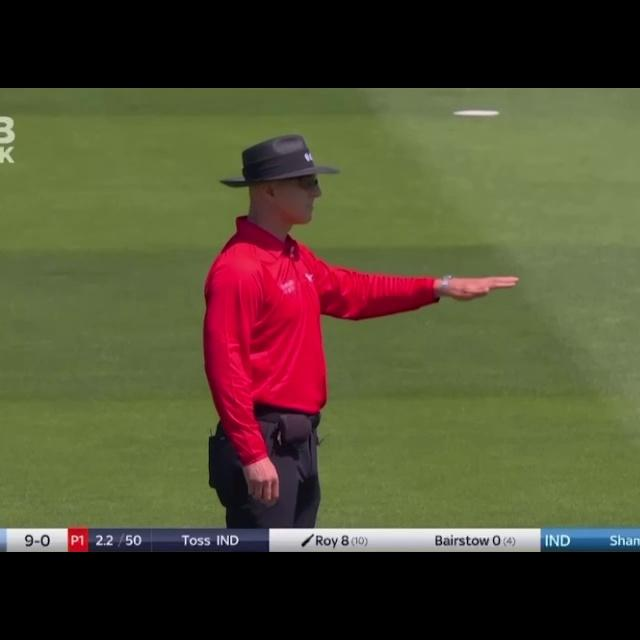umpire: (178, 120, 529, 525)
